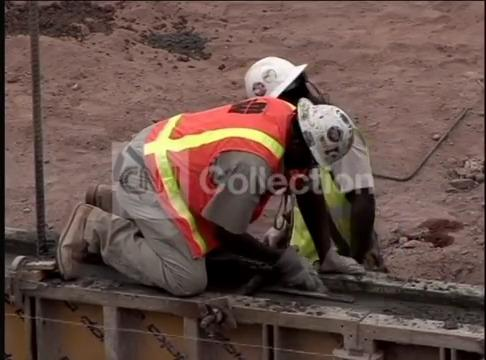Gloves: (275, 253, 317, 294), (317, 247, 366, 276)
Helmet: (296, 97, 354, 168), (243, 55, 308, 98)
Person: (71, 95, 333, 287), (243, 56, 385, 275)
Safety Boot: (53, 209, 92, 269), (80, 182, 110, 208)
Safety Vest: (150, 108, 296, 209)
